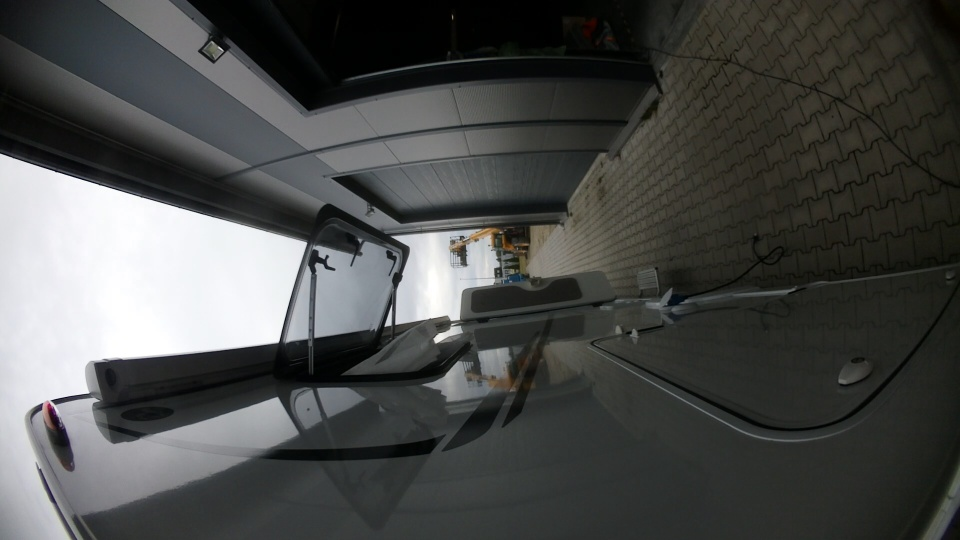door_back: (455, 266, 625, 322)
step_back: (630, 264, 666, 298)
window_back: (254, 200, 473, 386)
